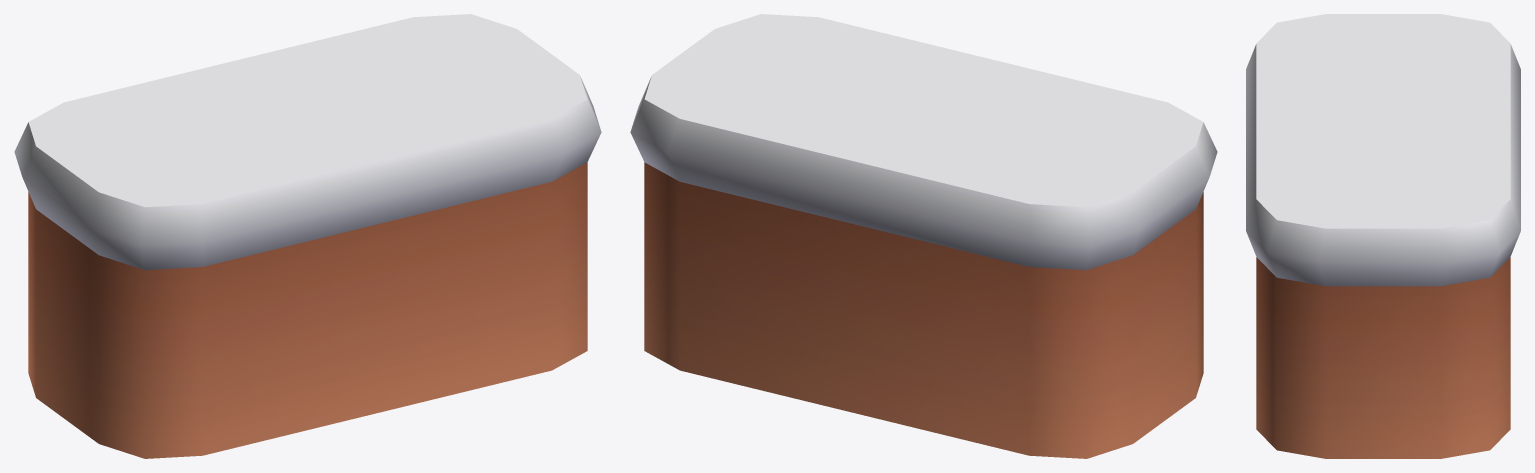
Rendered from kenney-platformer-block-snow-long.glb.
The picture shows the model from 3 angles, left to right: view 1: azimuth 30°, elevation 25°; view 2: azimuth 150°, elevation 25°; view 3: azimuth 270°, elevation 25°; orthographic projection. The views are drawn at different scales.
Parts seen in each view (by area): view 1: block-snow-long; view 2: block-snow-long; view 3: block-snow-long.
Part boxes in pixels (x1,y1,x2,y2): block-snow-long: [14, 14, 601, 458]; block-snow-long: [630, 14, 1217, 458]; block-snow-long: [1246, 14, 1520, 458].
Size of the model in its own units: 2.08 by 1 by 1.08.
1 material, 1 textured.
